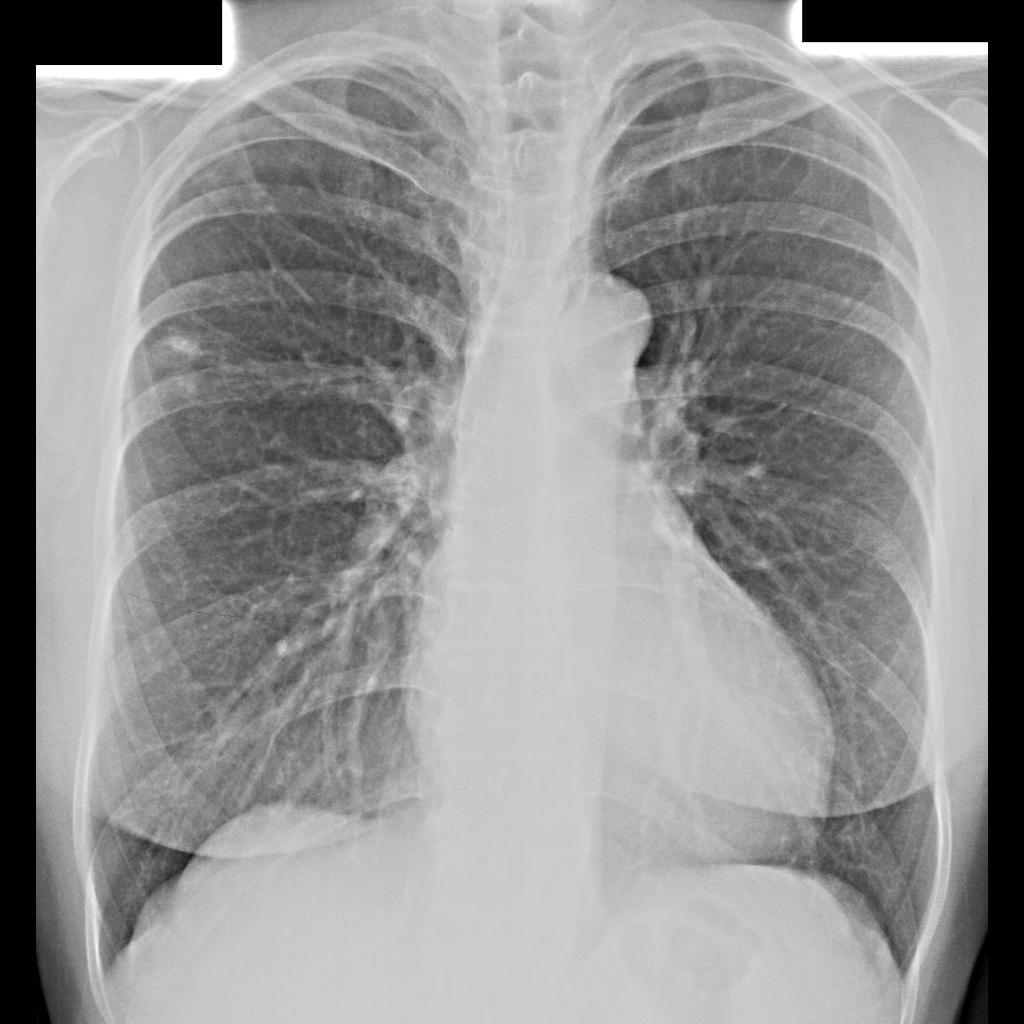Nodule: (152, 326, 202, 376)
